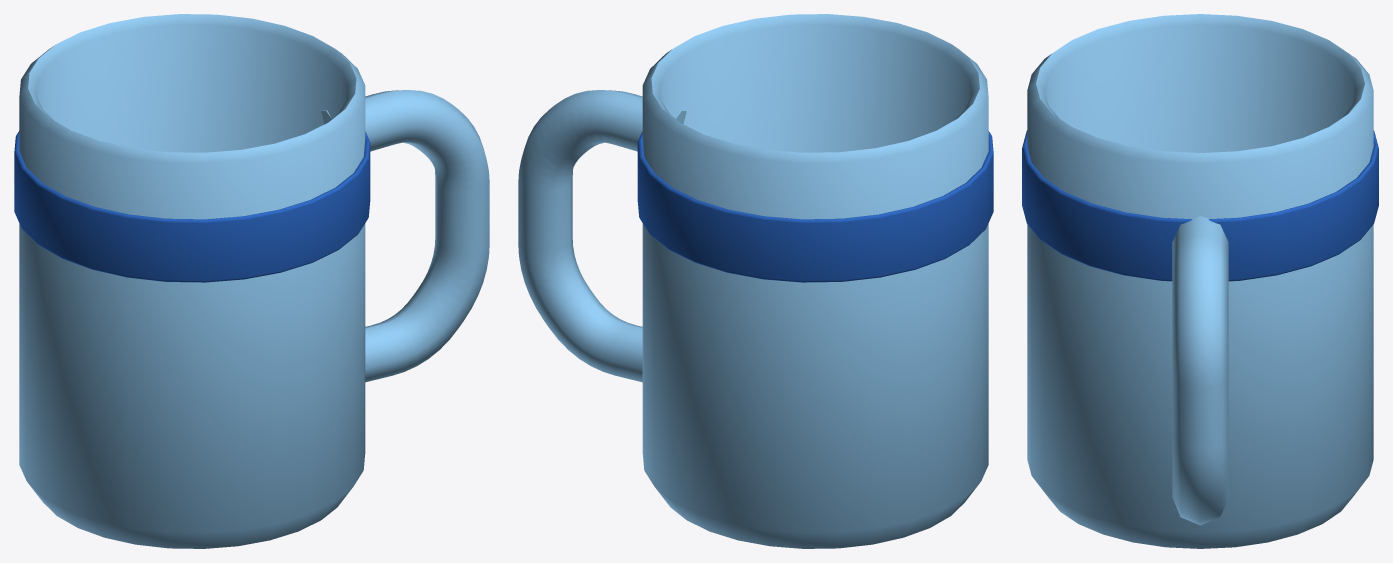
Rendered from caneca_azul.glb.
The picture shows the model from 3 angles, left to right: view 1: azimuth 30°, elevation 25°; view 2: azimuth 150°, elevation 25°; view 3: azimuth 270°, elevation 25°; orthographic projection.
Parts seen in each view (by area): view 1: caneca_azul; view 2: caneca_azul; view 3: caneca_azul.
Boxes of the visible parts, box(x1,y1,x2,y2) form: caneca_azul: box(14, 14, 489, 548); caneca_azul: box(518, 14, 993, 548); caneca_azul: box(1022, 14, 1378, 548).
Bounding box in the file's own units: 0.1197 × 0.1018 × 0.0824.
1 material, 1 textured.
